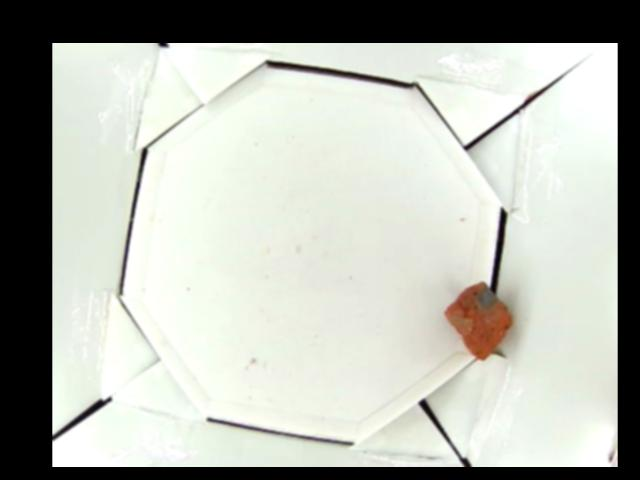Brisk: (445, 282, 513, 361)
